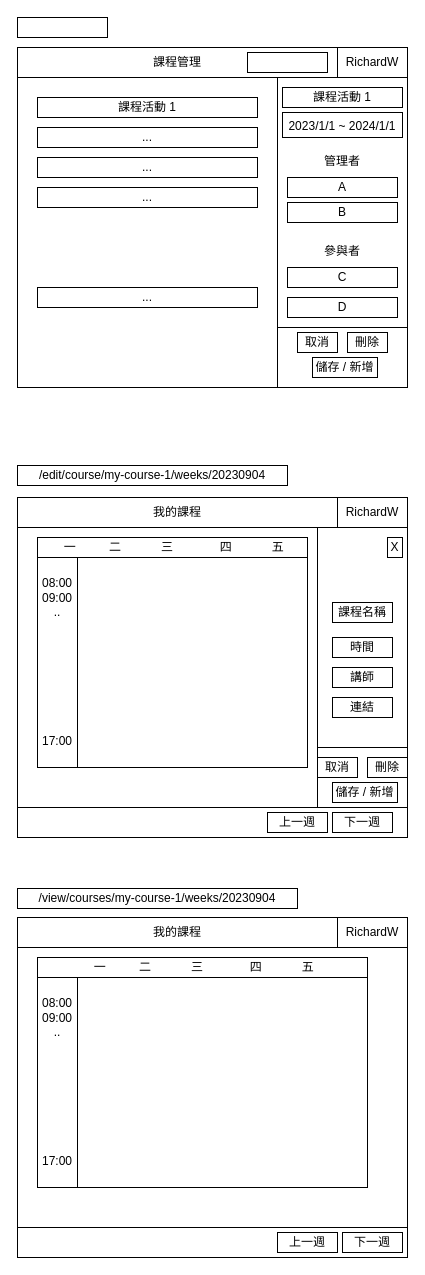
Some shapes in this 425 by 1275 pixel diagram are drawn without their labels. Each missing label, with the centre of its shape:
"/admin" goes at point 62,27.
"新增課程" goes at point 287,62.
